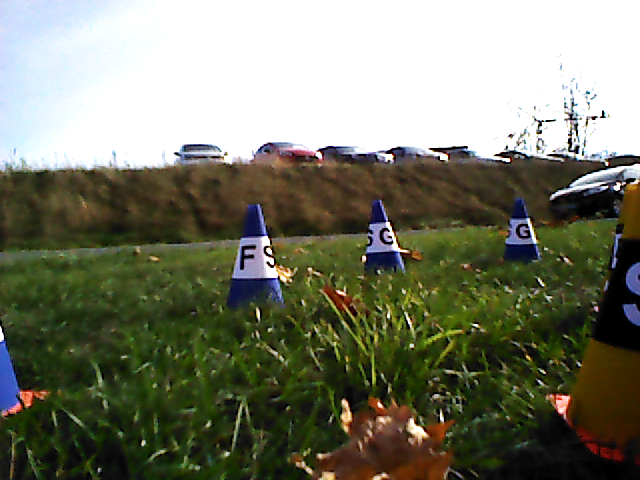bluecone: (228, 205, 287, 306), (363, 200, 404, 274), (505, 199, 542, 261)
